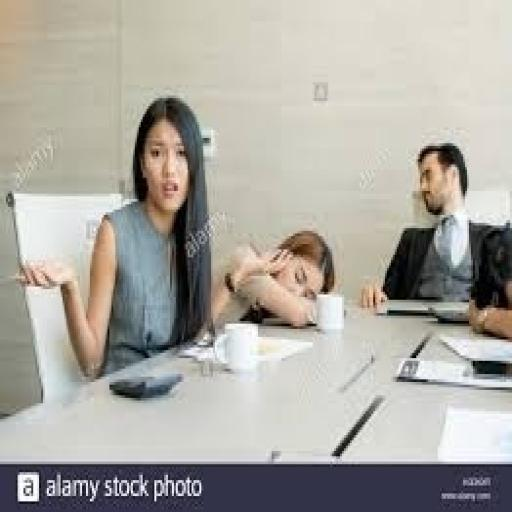sleeping: (360, 142, 498, 316), (209, 226, 338, 332), (465, 217, 510, 345)
